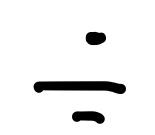div: (34, 32, 126, 124)
